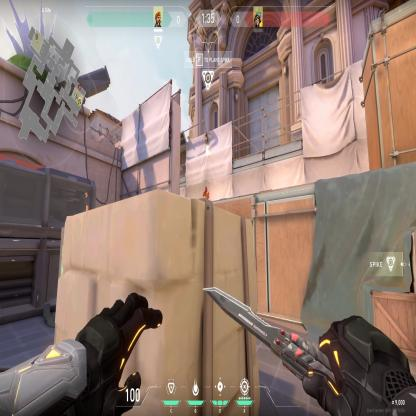enemy: (202, 184, 209, 199)
